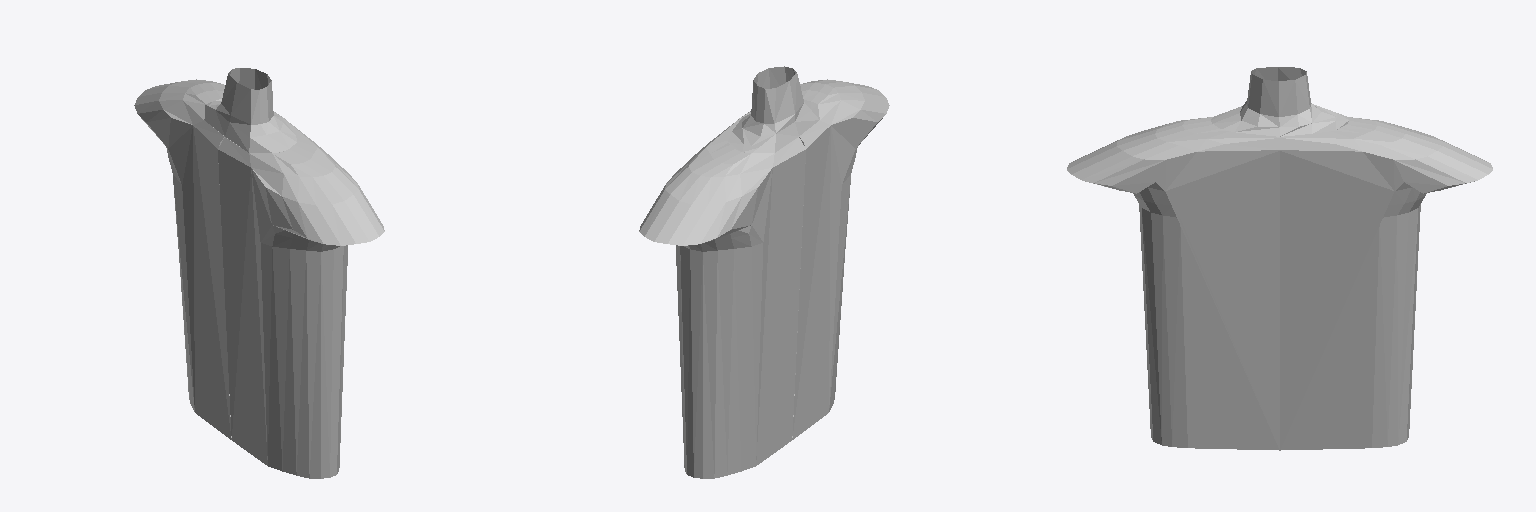
File: neck.obj
The picture shows the model from 3 angles: view 1: azimuth 30°, elevation 25°; view 2: azimuth 150°, elevation 25°; view 3: azimuth 270°, elevation 25°; orthographic projection.
Visible parts, largest first — view 1: Cylinder, Plane; view 2: Cylinder, Plane; view 3: Cylinder, Plane.
Part boxes in pixels (left/top/right/bottom): Cylinder: left=134, top=79, right=384, bottom=478; Plane: left=204, top=68, right=296, bottom=152; Cylinder: left=639, top=79, right=889, bottom=478; Plane: left=728, top=66, right=819, bottom=152; Cylinder: left=1067, top=117, right=1492, bottom=450; Plane: left=1211, top=67, right=1348, bottom=136.
Bounding box in the file's own units: 0.6449 × 2.91 × 3.12.